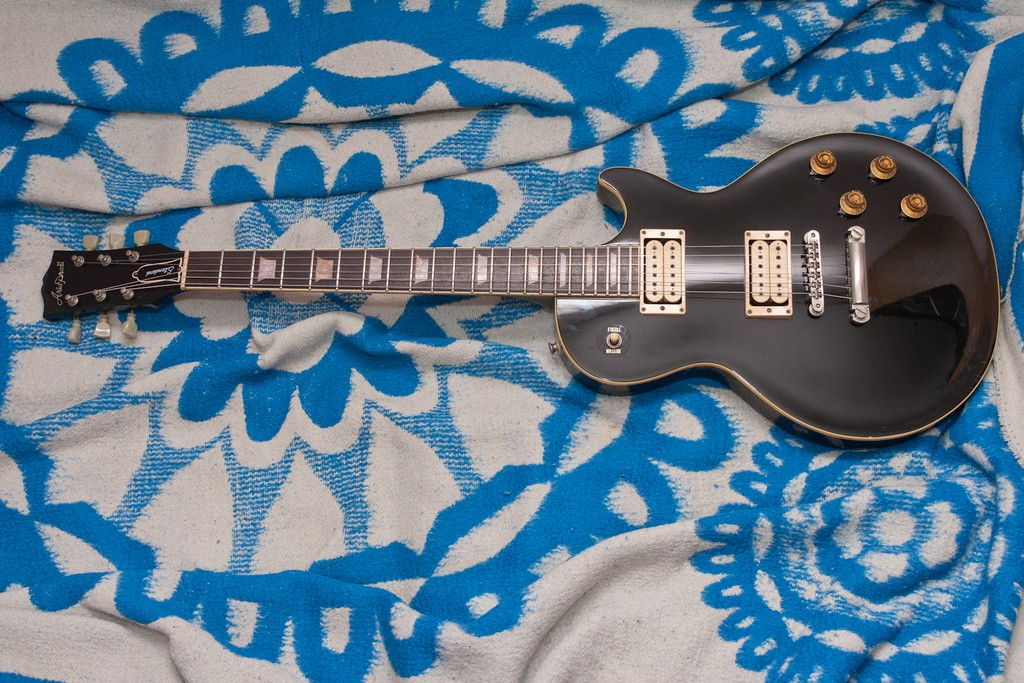guitar: (41, 131, 1001, 450)
